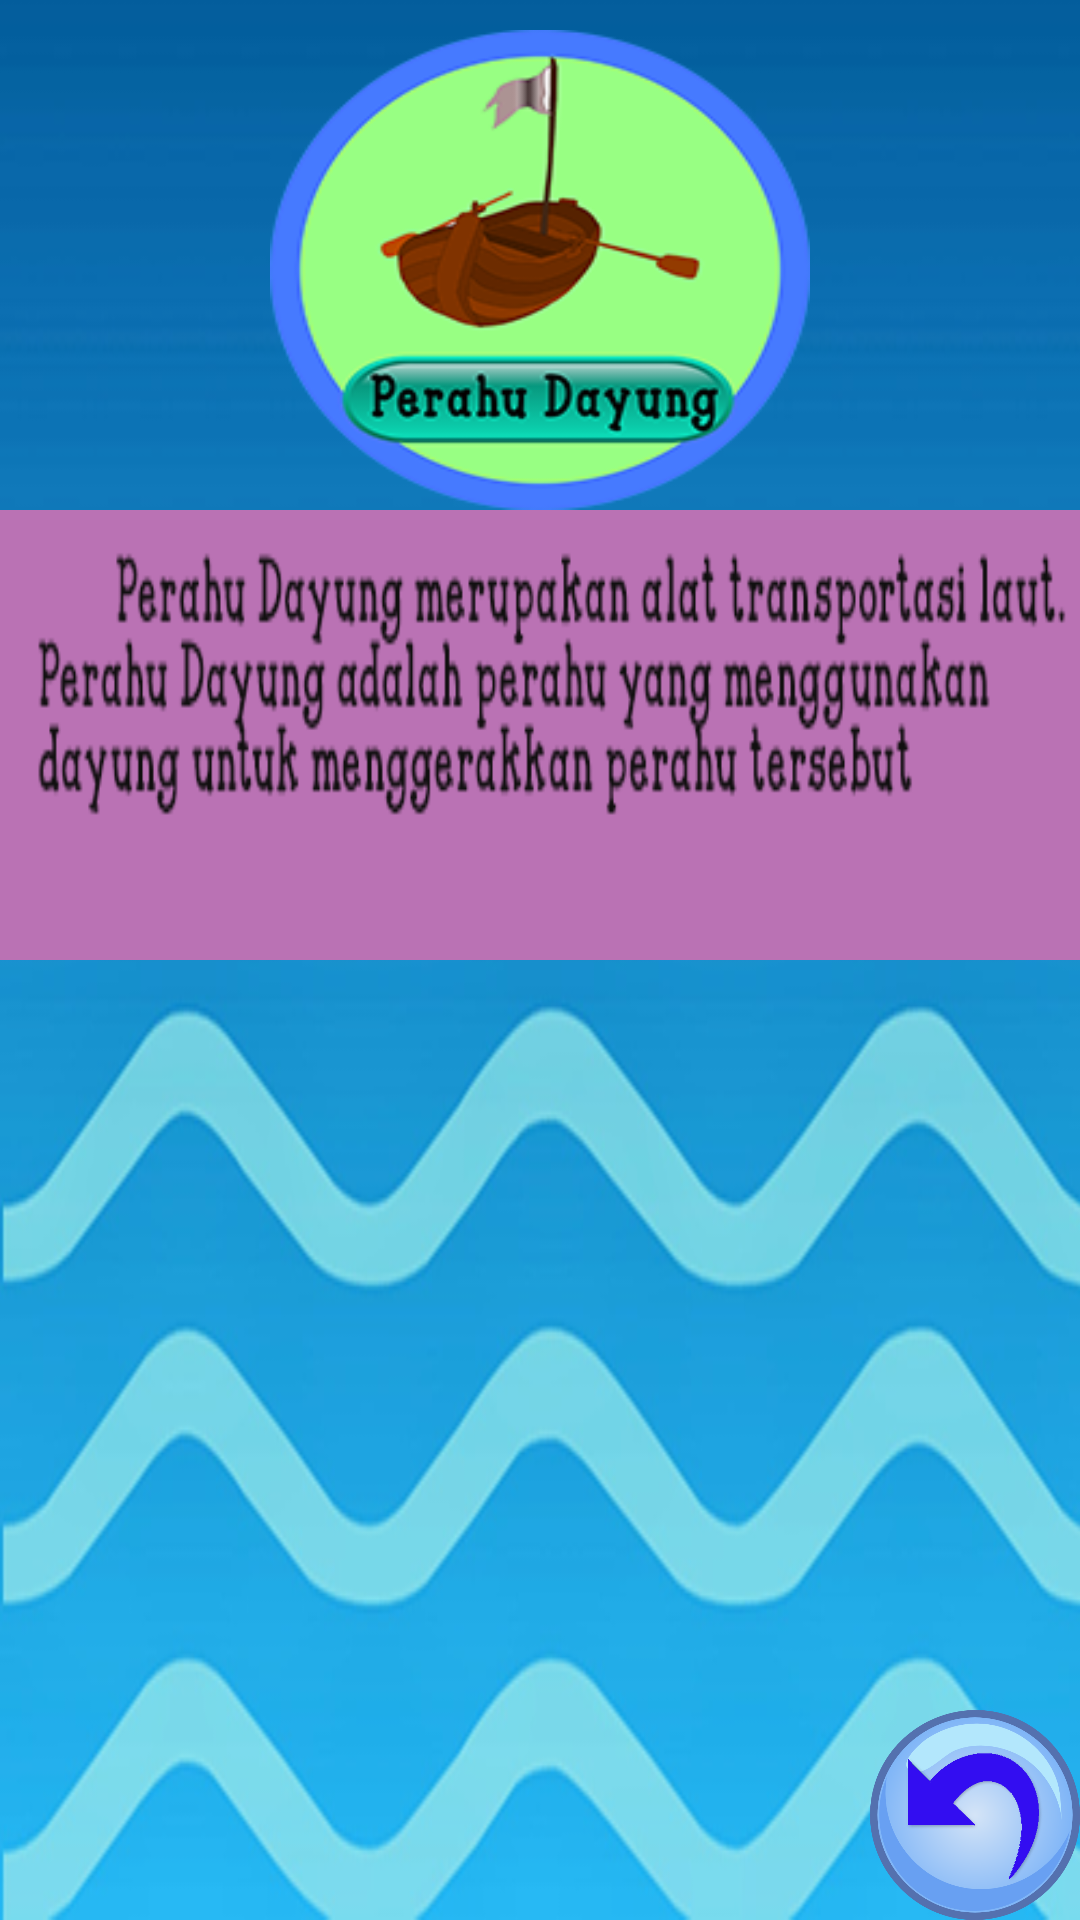

Icons on this 1080px×1920px Android screen, each with the point to tap as point (x, y):
back: point (975, 1815)
